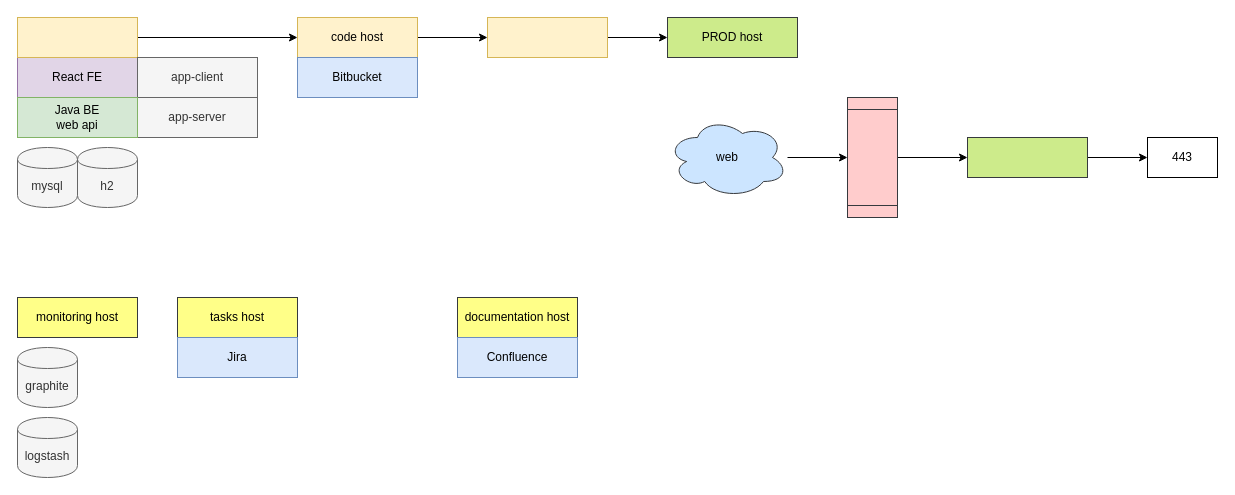
This 1235x495 diagram has some shape labels left out. Each missing label, with the centre of its shape:
localhost: the point at 77,37
nginx: the point at 1027,157
TEST host: the point at 547,37
ufw firewall: the point at 872,157
